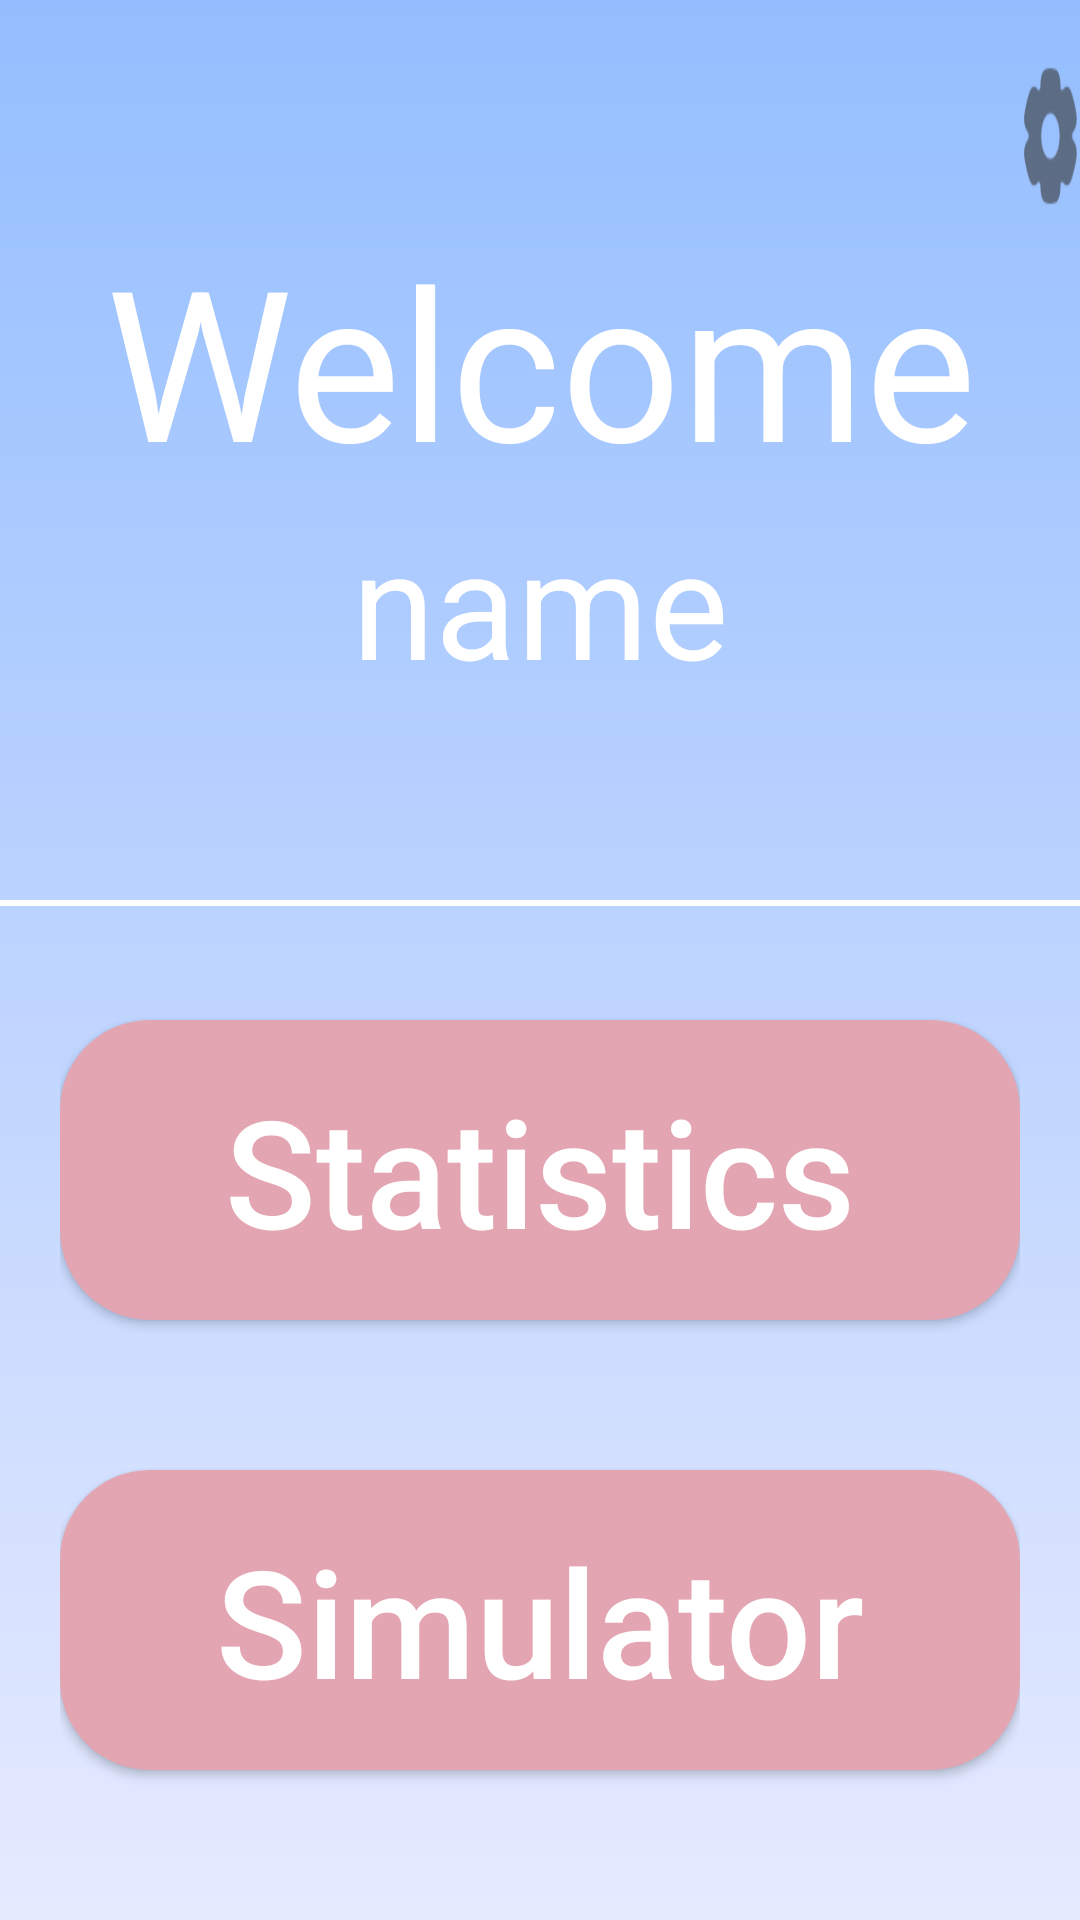

Icon bounding boxes for this 1080 × 1920 phone screenshot, format bbox=[x1, y1, x2, y2]:
cog wheel: bbox=[1024, 68, 1077, 204]
